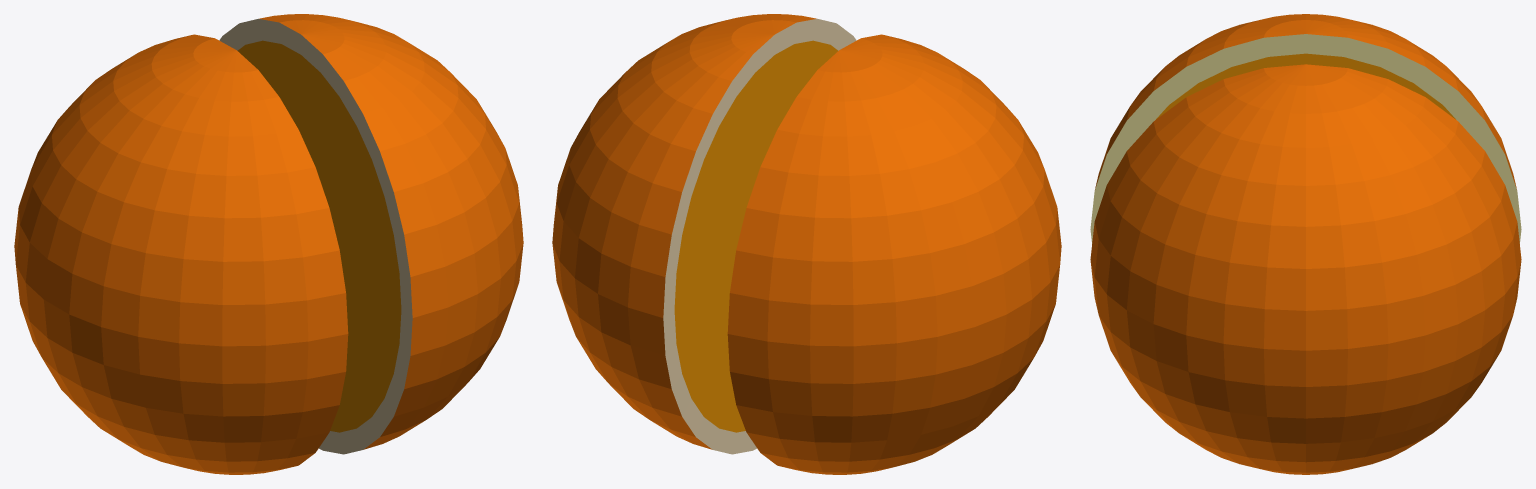
Rendered from Orange_Cut.fbx.
3 views of the same model, side by side, from view 1: azimuth 30°, elevation 25°; view 2: azimuth 150°, elevation 25°; view 3: azimuth 270°, elevation 25° (orthographic). The views are drawn at different scales.
Parts seen in each view (by area): view 1: Orange_Cut_L, Orange_Cut_R; view 2: Orange_Cut_L, Orange_Cut_R; view 3: Orange_Cut_R, Orange_Cut_L.
Boxes of the visible parts, x1,y1,x2,y2 form: Orange_Cut_L: (14, 34, 348, 474); Orange_Cut_R: (219, 14, 523, 454); Orange_Cut_L: (727, 34, 1061, 474); Orange_Cut_R: (552, 14, 856, 454); Orange_Cut_R: (1090, 64, 1521, 474); Orange_Cut_L: (1090, 14, 1521, 243).
Bounding box in the file's own units: 70 × 60 × 60.
